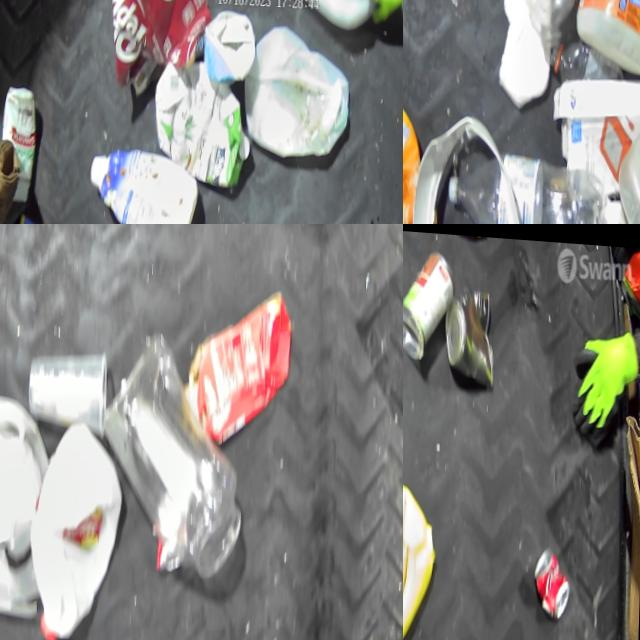can: (29, 340, 113, 447), (403, 248, 451, 361), (444, 281, 498, 372), (538, 536, 571, 609)
milk_jug: (25, 408, 128, 640), (244, 18, 354, 160), (0, 384, 53, 618), (403, 466, 442, 640)
non_white_jug: (182, 277, 300, 438), (86, 142, 200, 224)
plastic_bottle: (104, 311, 250, 579), (443, 134, 606, 224)
